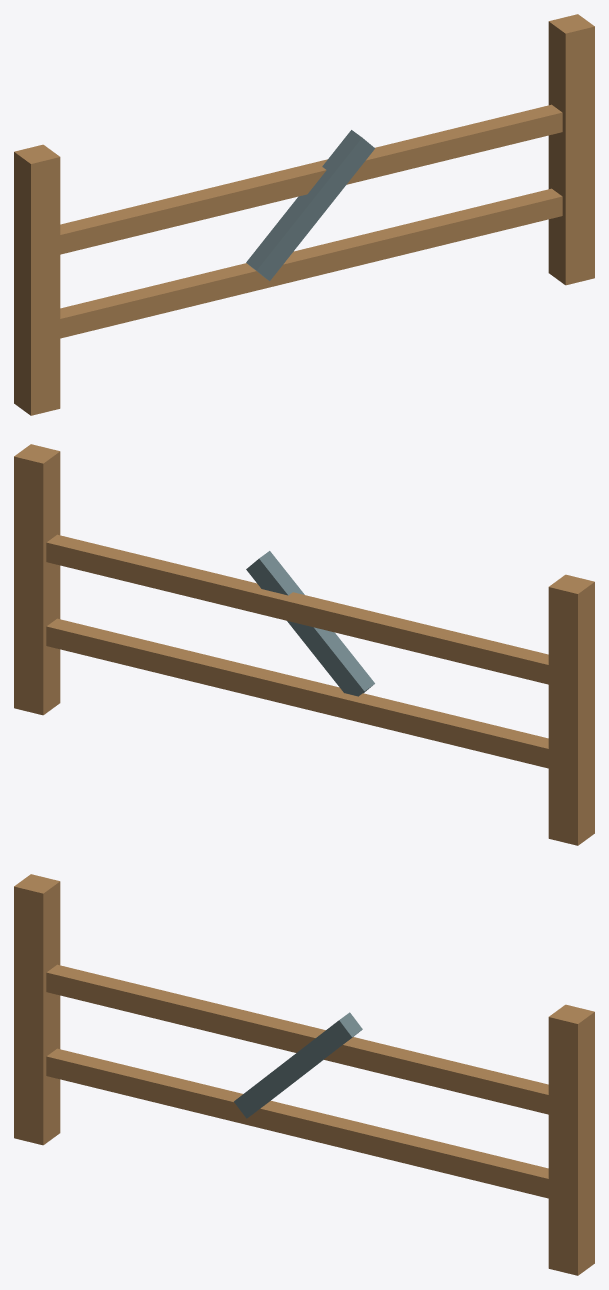
The model's file is fence.source.glb.
3 views of the same model, one above another, from view 1: azimuth 30°, elevation 25°; view 2: azimuth 150°, elevation 25°; view 3: azimuth 330°, elevation 25° (orthographic).
Parts seen in each view (by area): view 1: fence-rail-0.55-mesh, fence-rail-1.15-mesh, fence-post--2-mesh, fence-post-2-mesh, fence-gate-brace-mesh; view 2: fence-rail-0.55-mesh, fence-rail-1.15-mesh, fence-post--2-mesh, fence-post-2-mesh, fence-gate-brace-mesh; view 3: fence-rail-0.55-mesh, fence-rail-1.15-mesh, fence-post-2-mesh, fence-post--2-mesh, fence-gate-brace-mesh.
Part boxes in pixels (bbox=[...]): fence-rail-0.55-mesh: bbox=[60, 188, 562, 338]; fence-rail-1.15-mesh: bbox=[60, 104, 562, 254]; fence-post--2-mesh: bbox=[14, 144, 60, 415]; fence-post-2-mesh: bbox=[548, 14, 594, 285]; fence-gate-brace-mesh: bbox=[246, 130, 374, 280]; fence-rail-0.55-mesh: bbox=[46, 618, 548, 768]; fence-rail-1.15-mesh: bbox=[46, 534, 548, 684]; fence-post--2-mesh: bbox=[548, 574, 594, 845]; fence-post-2-mesh: bbox=[14, 444, 60, 715]; fence-gate-brace-mesh: bbox=[246, 551, 374, 696]; fence-rail-0.55-mesh: bbox=[46, 1048, 548, 1198]; fence-rail-1.15-mesh: bbox=[46, 964, 548, 1114]; fence-post-2-mesh: bbox=[548, 1004, 594, 1275]; fence-post--2-mesh: bbox=[14, 874, 60, 1145]; fence-gate-brace-mesh: bbox=[234, 1012, 362, 1118].
Size of the model in its own units: 4.22 by 1.8 by 0.26.
